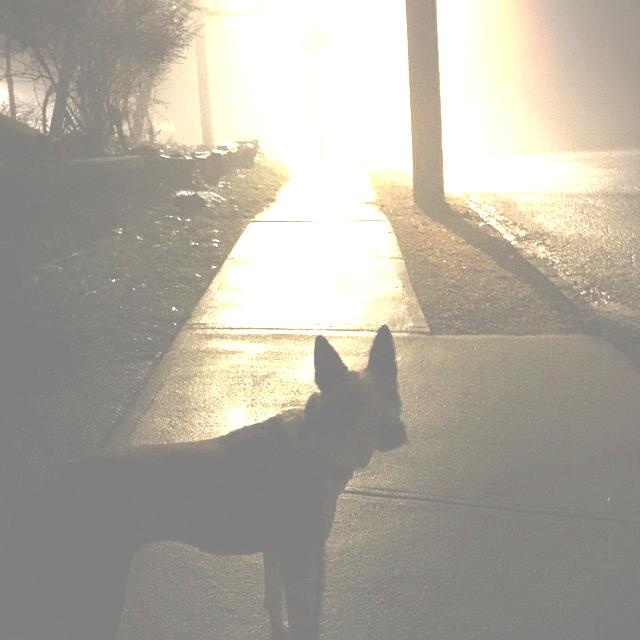Dog: (0, 324, 407, 639)
